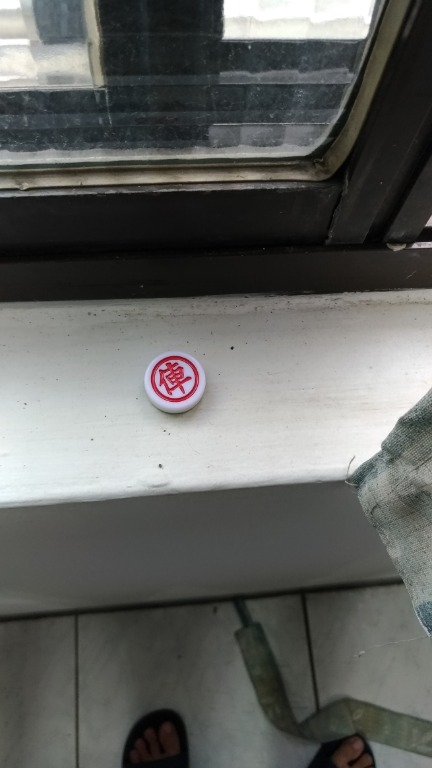r-rook: (127, 349, 218, 421)
